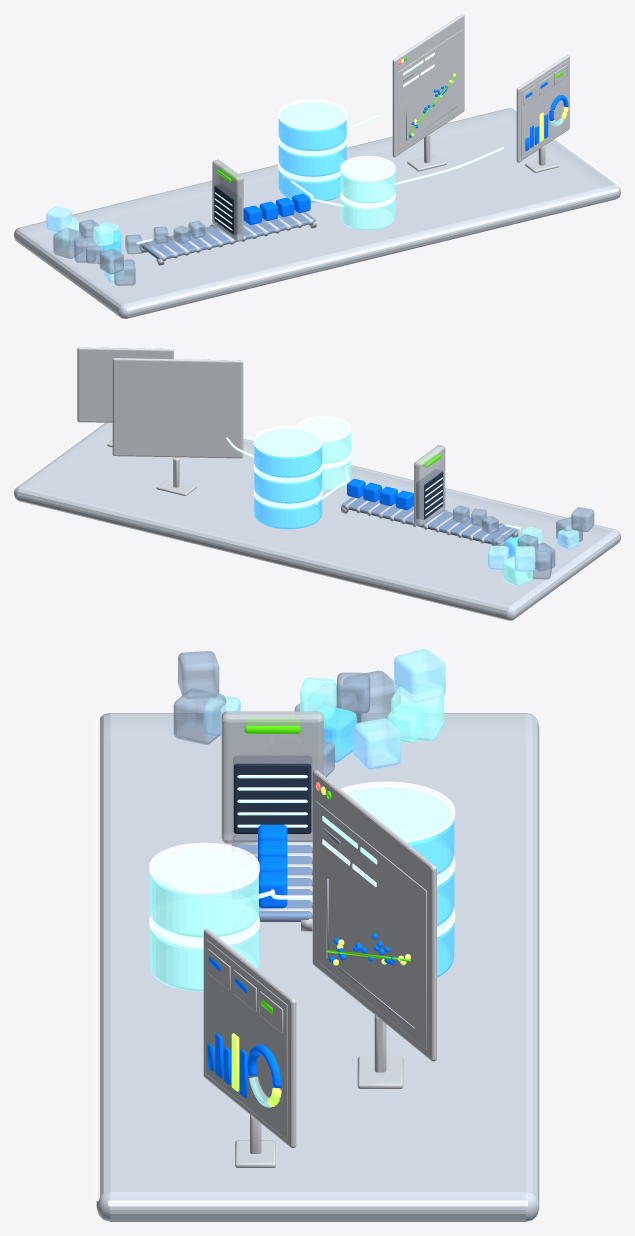
Rendered from data-science-pipeline.glb.
3 renders of one model, top to bottom at view 1: azimuth 30°, elevation 25°; view 2: azimuth 150°, elevation 25°; view 3: azimuth 270°, elevation 25°, orthographic. The views are drawn at different scales.
Visible parts, largest first — view 1: Base, Notebook, Warehouse01, CleaningGate, Dashboard, RawData, Warehouse02, Records, DataPaths; view 2: Base, Notebook, Warehouse01, CleaningGate, RawData, Dashboard, Warehouse02, Records; view 3: Base, Notebook, RawData, Dashboard, CleaningGate, Warehouse02, Warehouse01, Records.
Part boxes in pixels (left/top/right/bottom): Base: left=14, top=108, right=620, bottom=318; Notebook: left=392, top=14, right=464, bottom=171; Warehouse01: left=278, top=99, right=347, bottom=202; CleaningGate: left=139, top=159, right=316, bottom=265; Dashboard: left=516, top=54, right=569, bottom=172; RawData: left=46, top=206, right=142, bottom=285; Warehouse02: left=340, top=155, right=395, bottom=230; Records: left=153, top=193, right=310, bottom=243; DataPaths: left=136, top=115, right=503, bottom=244; Base: left=14, top=422, right=620, bottom=620; Notebook: left=112, top=358, right=243, bottom=495; Warehouse01: left=253, top=426, right=322, bottom=529; CleaningGate: left=341, top=445, right=518, bottom=545; RawData: left=488, top=507, right=594, bottom=586; Dashboard: left=77, top=347, right=173, bottom=447; Warehouse02: left=296, top=416, right=351, bottom=490; Records: left=347, top=479, right=498, bottom=533; Base: left=95, top=713, right=539, bottom=1221; Notebook: left=312, top=770, right=436, bottom=1088; RawData: left=173, top=649, right=445, bottom=777; Dashboard: left=203, top=929, right=296, bottom=1167; CleaningGate: left=221, top=711, right=323, bottom=931; Warehouse02: left=149, top=842, right=259, bottom=991; Warehouse01: left=341, top=781, right=455, bottom=977; Records: left=258, top=824, right=287, bottom=908.
Size of the model in its own units: 10.21 by 2.78 by 3.91.
